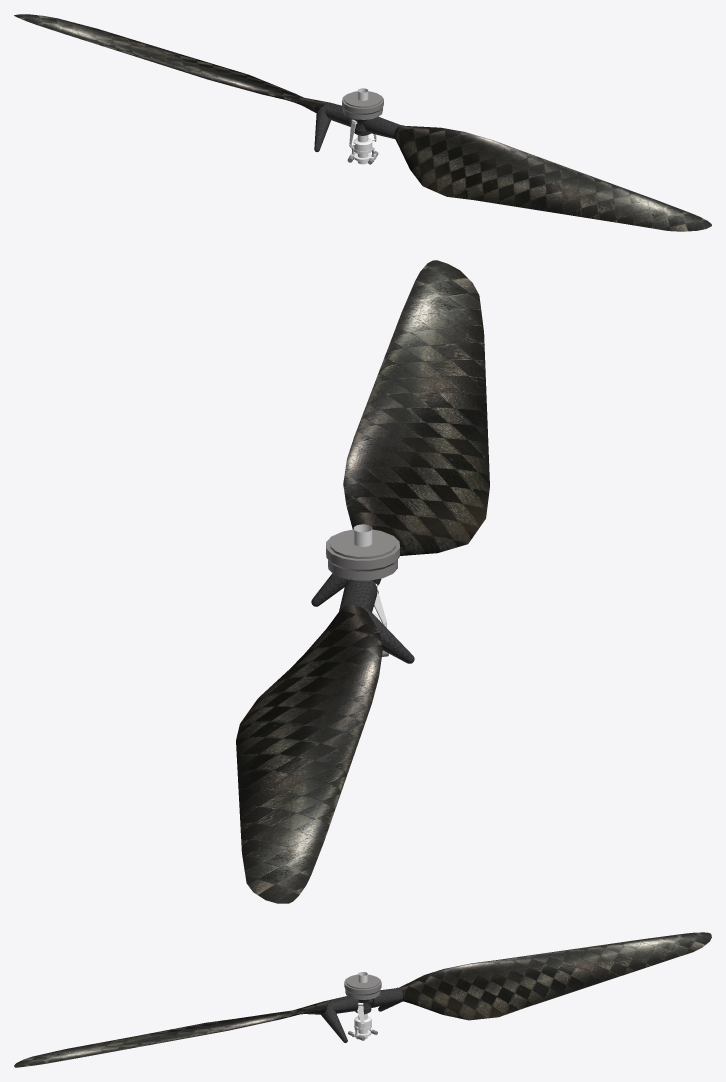
File: ingenuity_clockwise.glb
3 views of the same model, one above another, from view 1: azimuth 30°, elevation 25°; view 2: azimuth 150°, elevation 25°; view 3: azimuth 270°, elevation 25° (orthographic). The views are drawn at different scales.
Parts seen in each view (by area): view 1: rotors_01, parts_01; view 2: rotors_01; view 3: rotors_01, parts_01.
Part boxes in pixels (box(x1,y1,x2,y2)): rotors_01: box(14, 14, 711, 231); parts_01: box(347, 119, 378, 164); rotors_01: box(236, 260, 489, 903); rotors_01: box(14, 932, 711, 1067); parts_01: box(348, 1003, 377, 1040).
Size of the model in its own units: 0.5055 by 0.1117 by 1.11.
5 materials, 2 textured.
